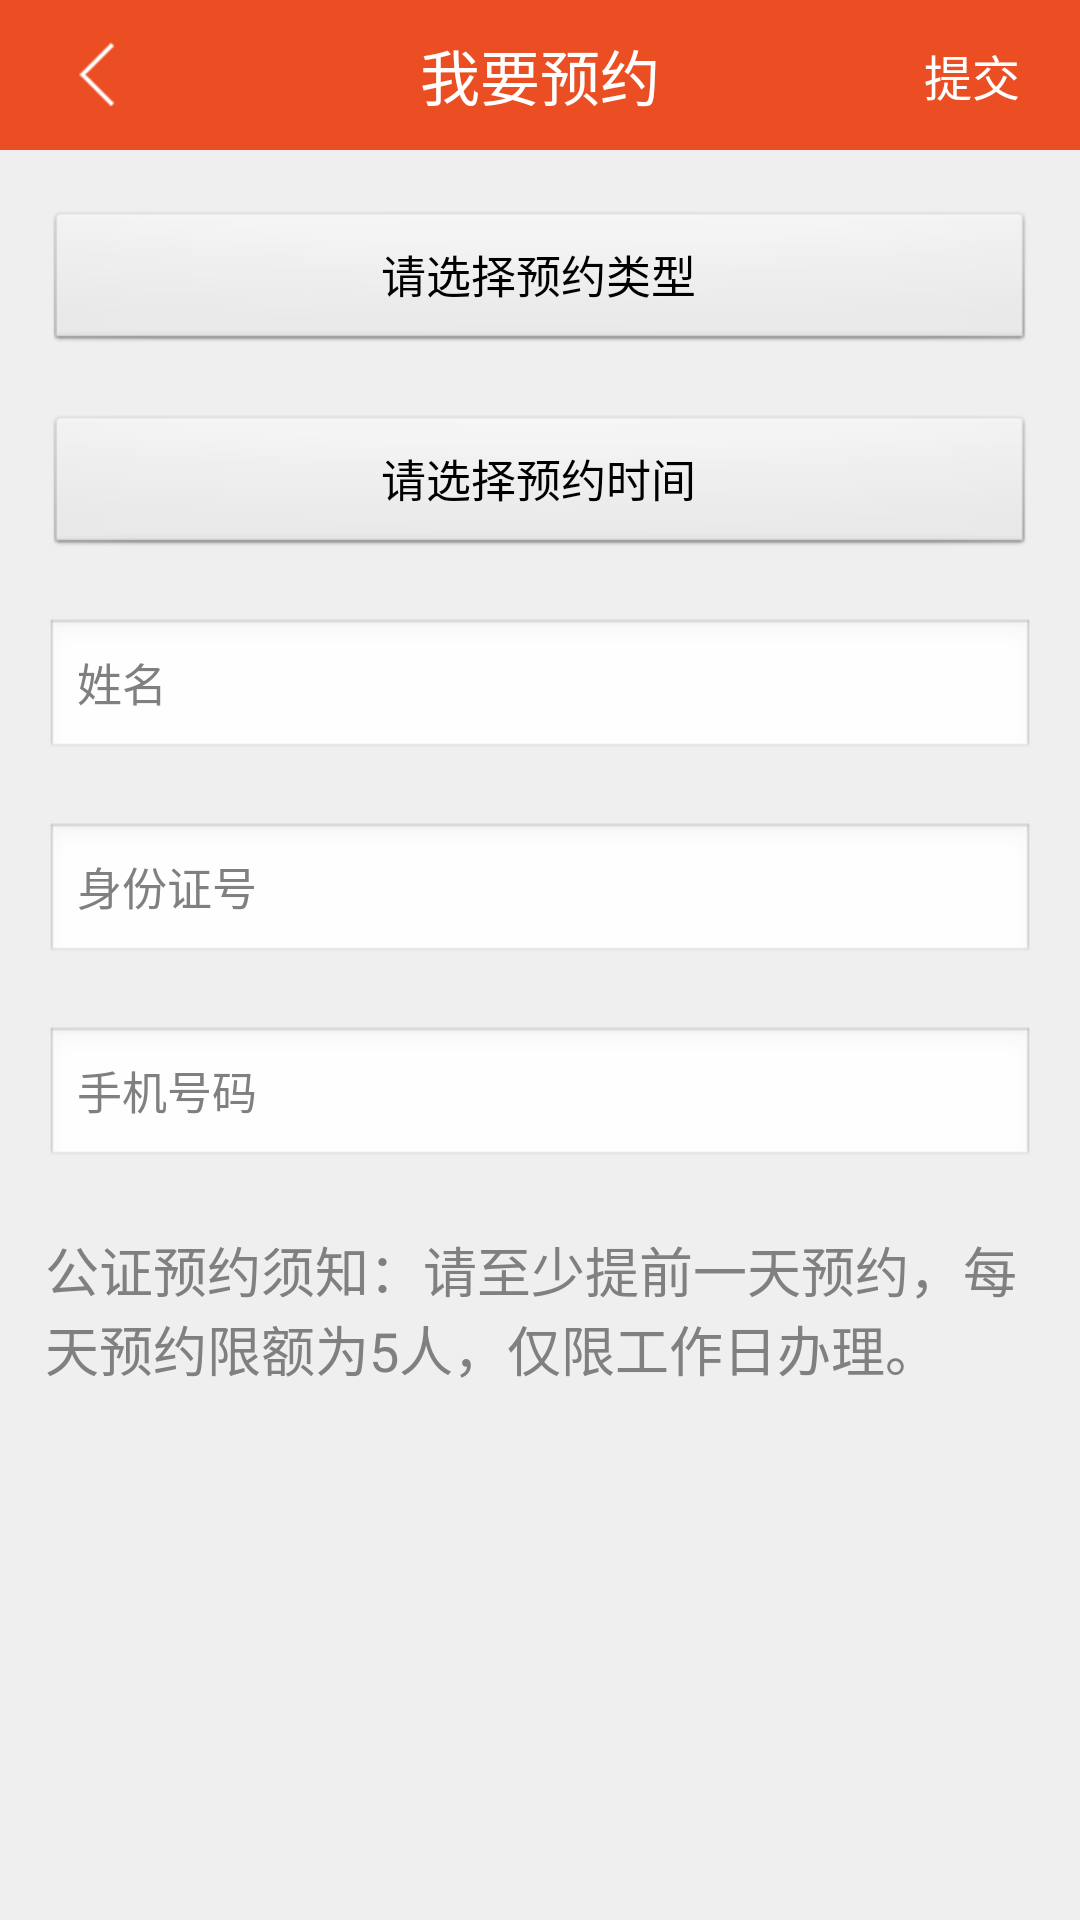

Icons on this 1080w x 1920h Android screen, each with its box as (x1, y1, x2, y2):
back: (79, 43, 114, 106)
